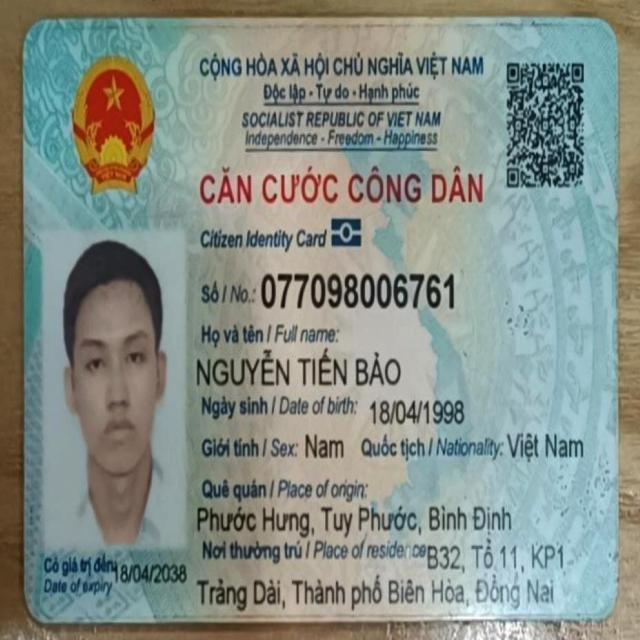current_place: (194, 571, 560, 613), (423, 534, 569, 574)
dob: (370, 394, 465, 427)
expire_date: (112, 558, 191, 590)
gender: (299, 428, 347, 467)
id: (257, 267, 457, 313)
name: (195, 346, 402, 389)
nationality: (505, 424, 585, 466)
origin_place: (195, 498, 515, 539)
qr: (504, 54, 588, 193)
